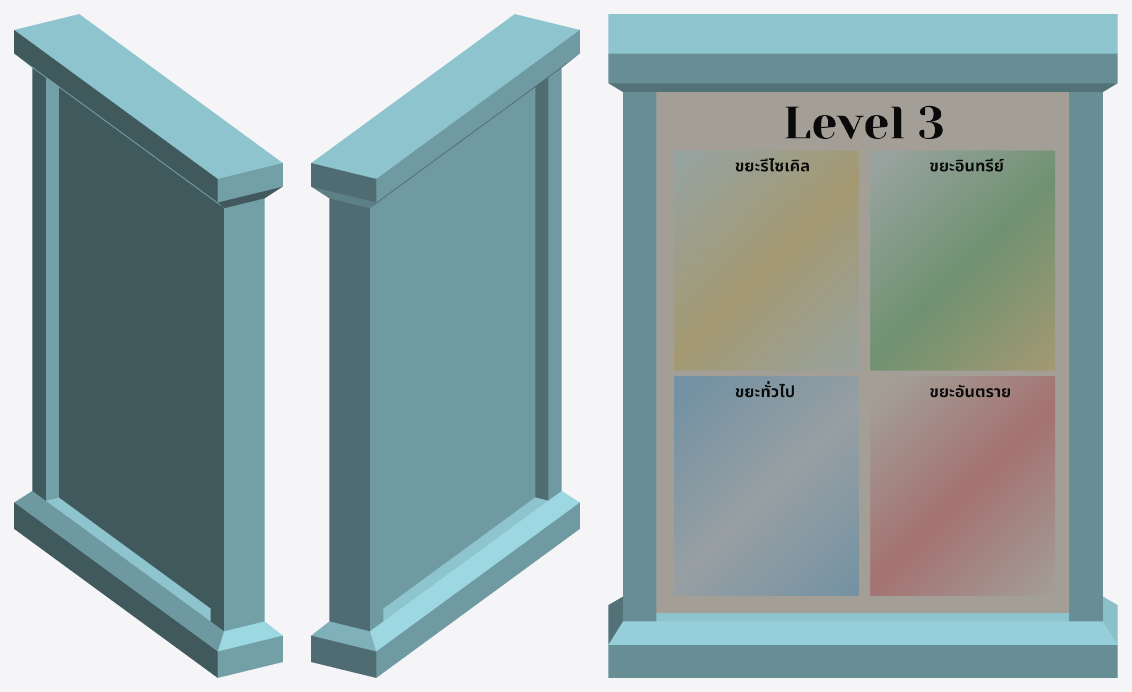
The model's file is L_Level3.fbx.
3 renders of one model, left to right at view 1: azimuth 30°, elevation 25°; view 2: azimuth 150°, elevation 25°; view 3: azimuth 270°, elevation 25°, orthographic. The views are drawn at different scales.
Visible parts, largest first — view 1: pCube1; view 2: pCube1; view 3: pCube1.
Part boxes in pixels (bbox=[...]): pCube1: bbox=[14, 14, 282, 677]; pCube1: bbox=[311, 14, 579, 677]; pCube1: bbox=[608, 14, 1117, 677].
Size of the model in its own units: 1.93 by 14.13 by 10.45.
